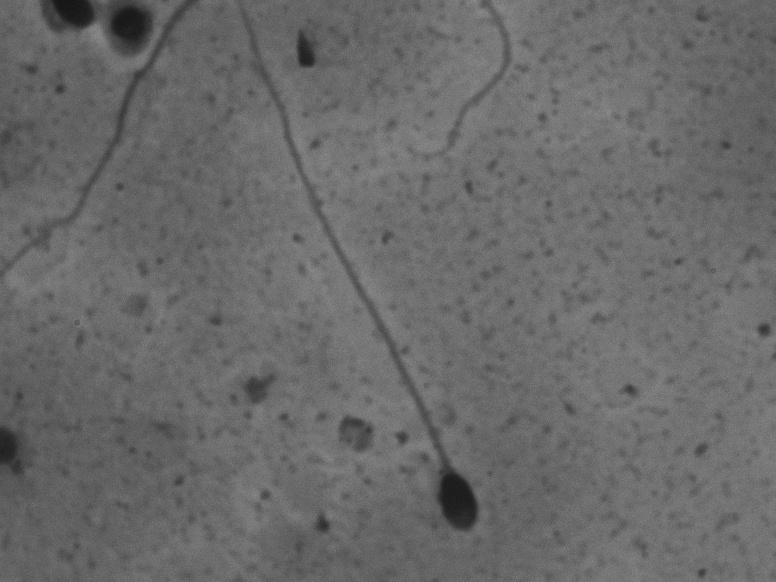Normal: (231, 7, 486, 543)
